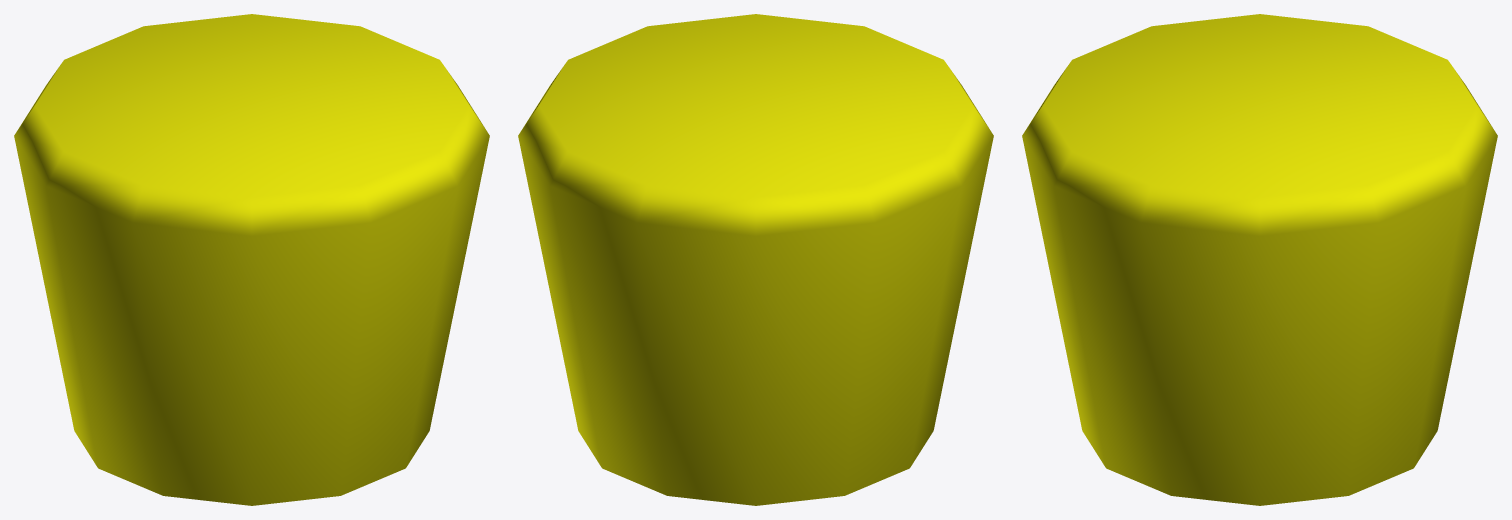
The model's file is S_Pillar_03_C.fbx.
3 renders of one model, left to right at view 1: azimuth 30°, elevation 25°; view 2: azimuth 150°, elevation 25°; view 3: azimuth 270°, elevation 25°, orthographic.
Parts seen in each view (by area): view 1: S_Pillar_03_C; view 2: S_Pillar_03_C; view 3: S_Pillar_03_C.
Boxes of the visible parts, box(x1,y1,x2,y2) form: S_Pillar_03_C: box(14, 14, 489, 505); S_Pillar_03_C: box(518, 14, 993, 505); S_Pillar_03_C: box(1022, 14, 1497, 505).
Size of the model in its own units: 55.45 by 41.81 by 55.45.
